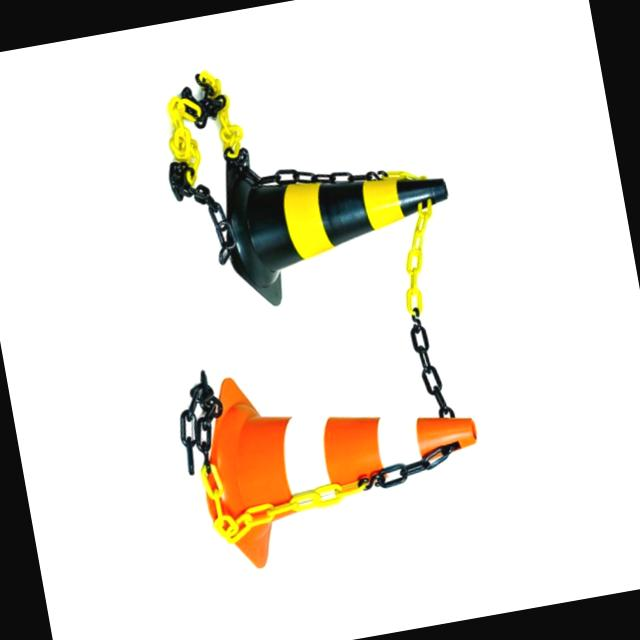cone: (188, 362, 498, 558)
